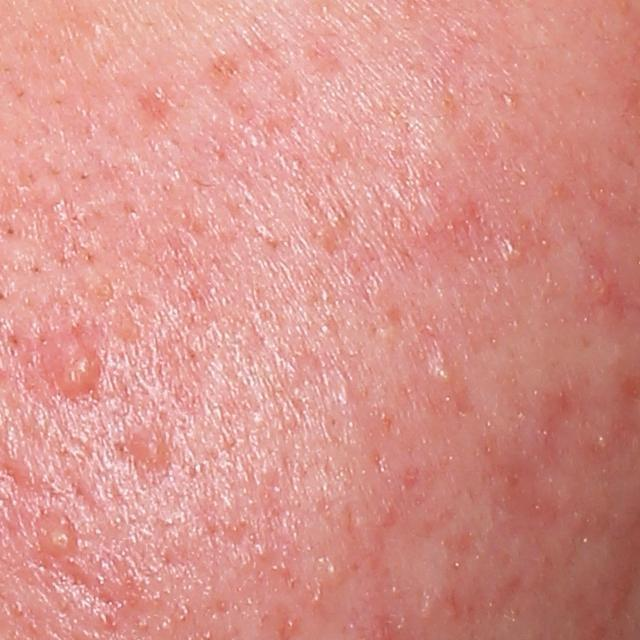comedo: (134, 429, 169, 471), (318, 558, 349, 593), (429, 363, 453, 391)
papule: (51, 346, 105, 403), (30, 512, 86, 558)
